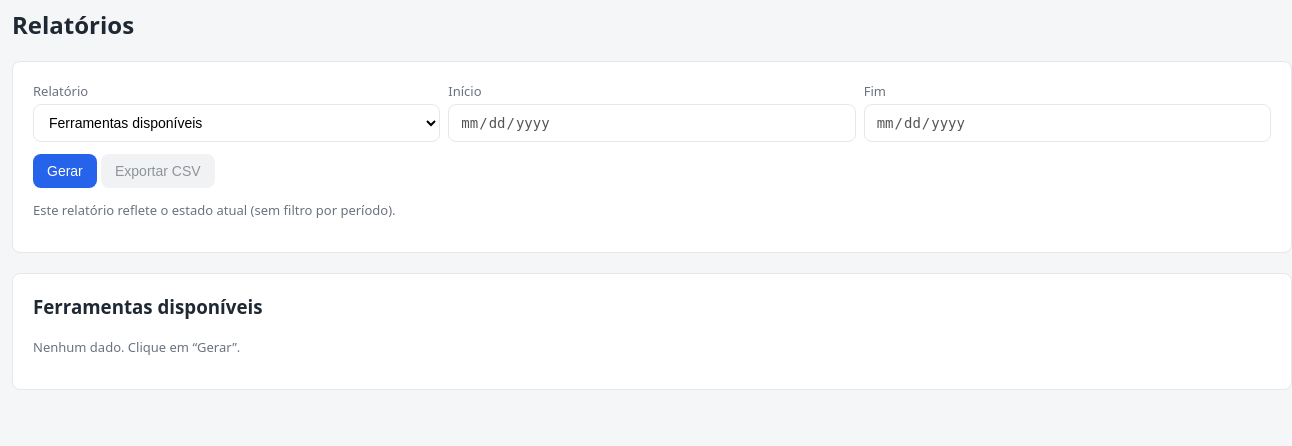
Tela de Relatórios › gera e exibe os dados na tabela
Click the button "Gerar" at (65, 171), box top-left (33, 154), bottom-right (97, 188)
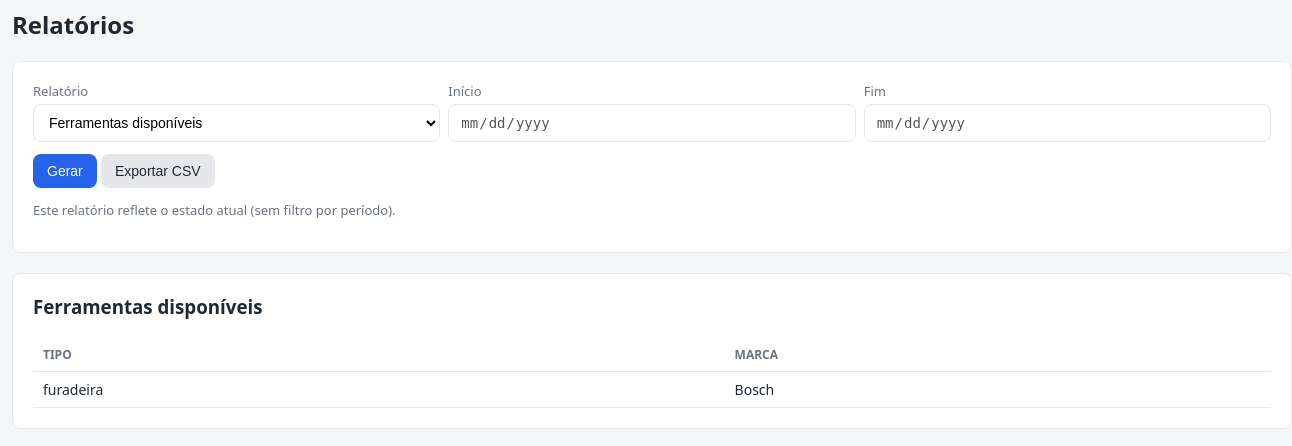
Expected: the text "furadeira" is shown, top-left (33, 371), bottom-right (725, 407)
Expected: the text "Bosch" is shown, top-left (725, 371), bottom-right (1271, 407)
